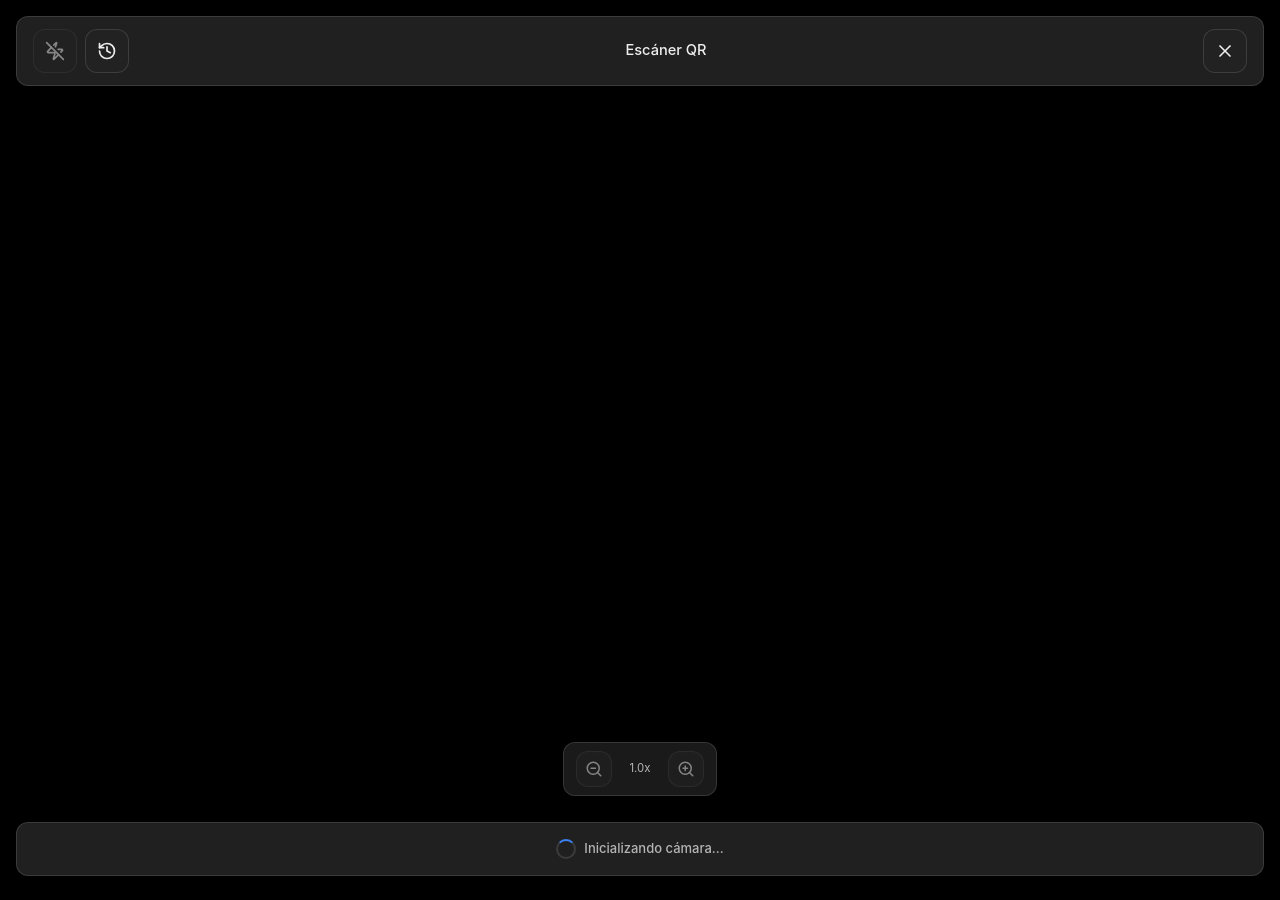
Test: QRScannerFullscreen › History functionality › shows history panel when history button is clicked
This screenshot has width=1280, height=900.
Click the button titled "Historial de escaneos".
click(107, 51)  # box [85,29,129,73]
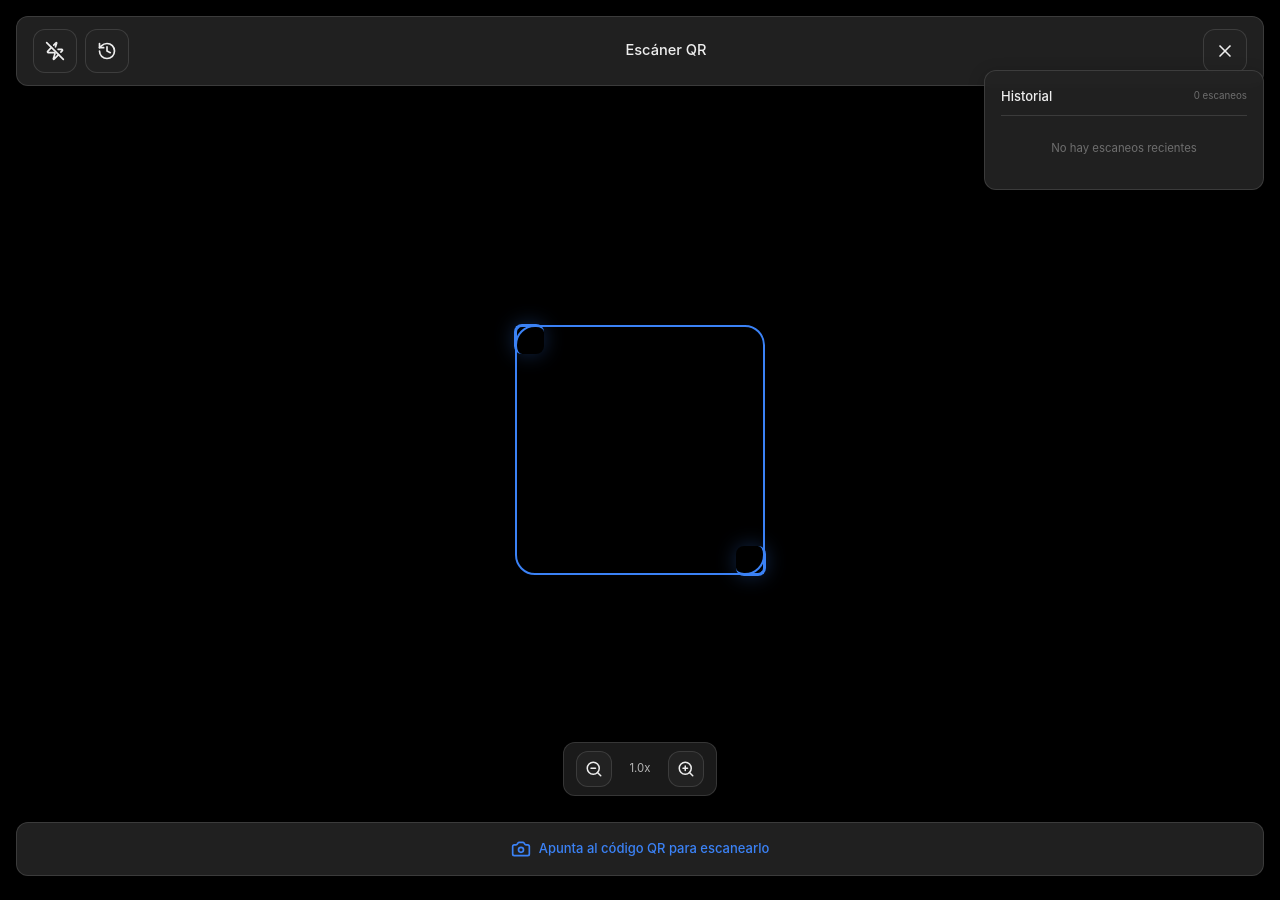
Expected: the text "Historial" is shown, [1001,87,1052,106]
